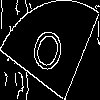O: (25, 24, 68, 85)
